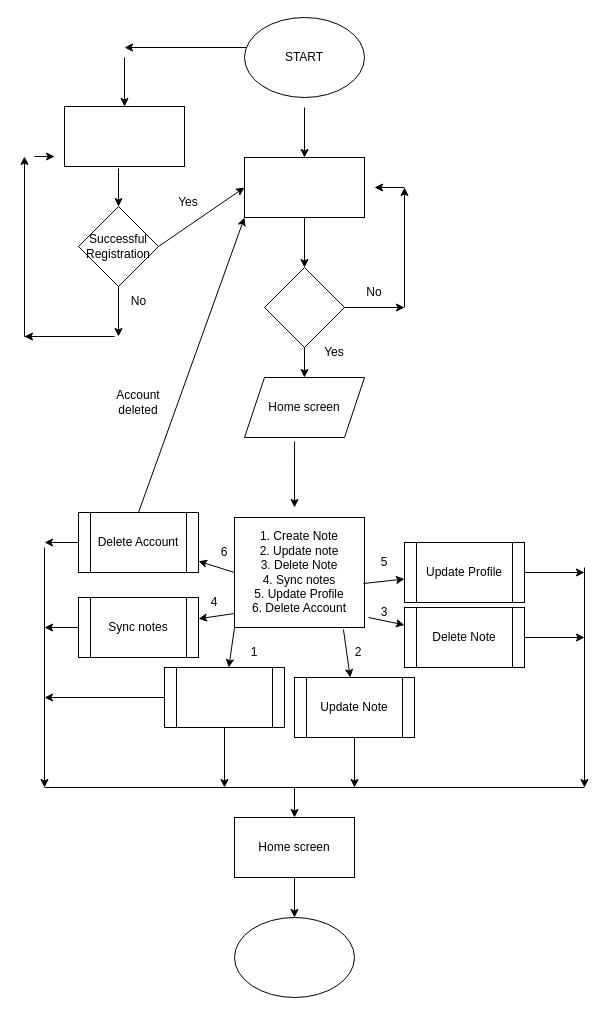
Image size: 610x1015. Some labels were removed from this diagram. The shapes that lost their labels are listed below. From the top down, each one's centre as x and y in pixels, then its label:
At point 124,136: "1. Register".
At point 304,187: "Login".
At point 304,307: "Successful Login".
At point 224,697: "Create note".
At point 294,957: "END".
